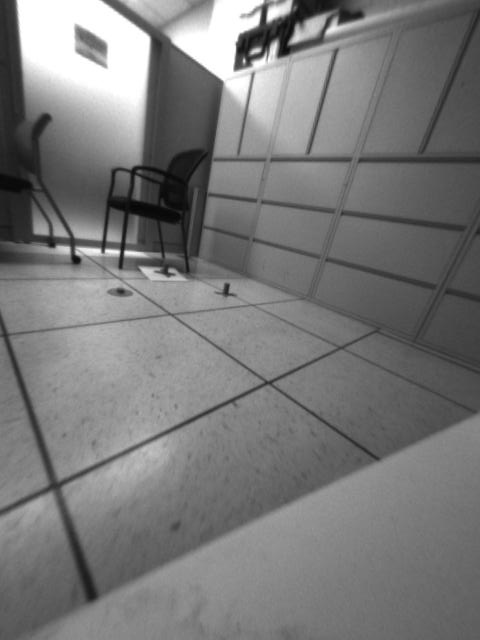X: (211, 278, 241, 300), (150, 262, 177, 279)
